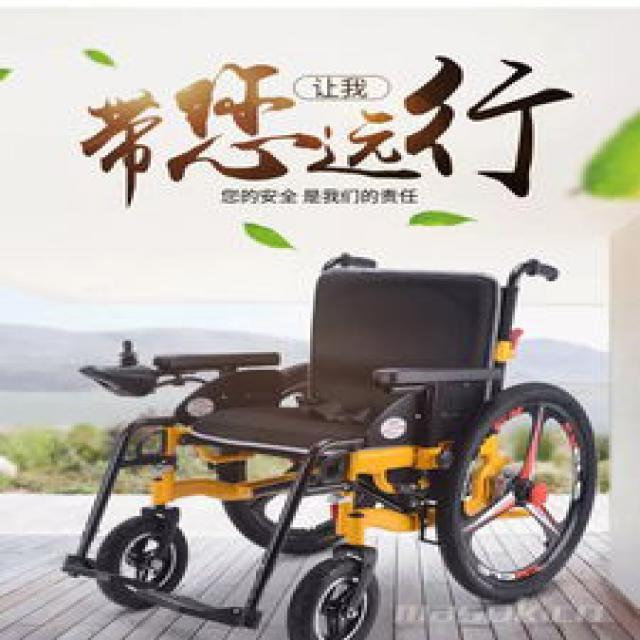wheelchair: (59, 244, 600, 636)
